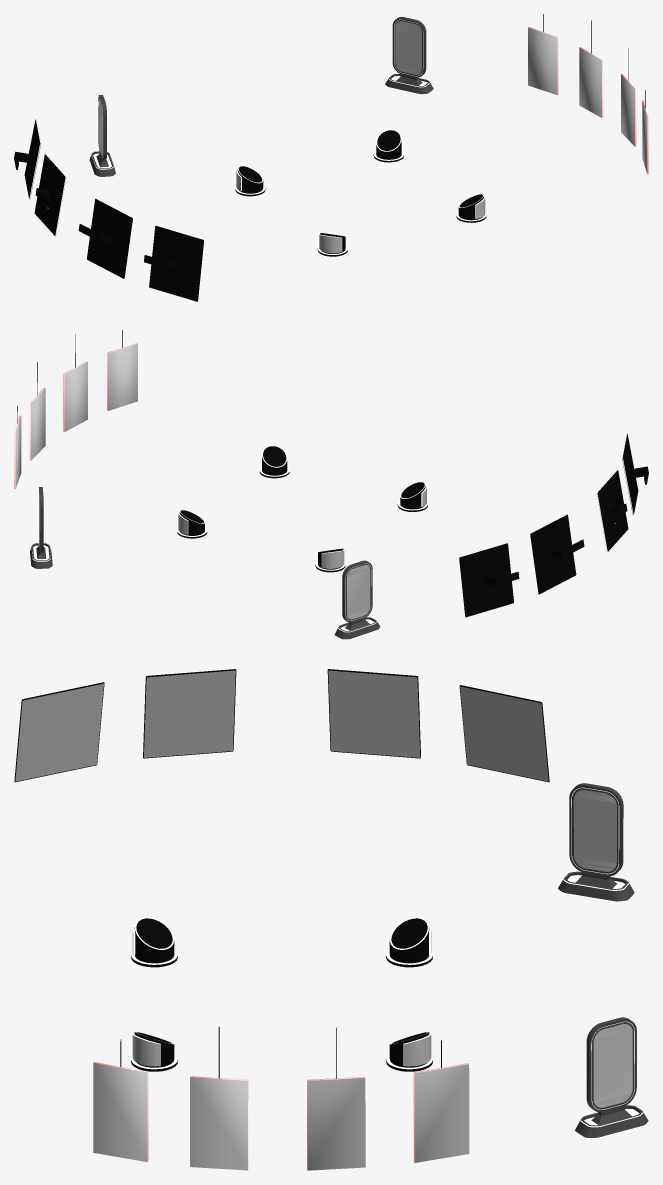
File: Banner_moon.fbx
3 views of the same model, one above another, from view 1: azimuth 30°, elevation 25°; view 2: azimuth 150°, elevation 25°; view 3: azimuth 270°, elevation 25° (orthographic). The views are drawn at different scales.
Visible parts, largest first — view 1: First_Floor_001.002, Cars_Screen_007, Cylinder_001_1, Cars_Screen_008, SM_TRAFFIC_LAMP_003, Cars_Screen_006, SM_TRAFFIC_LAMP_001, Cars_Screen_002; view 2: First_Floor_001.002, Cars_Screen_002, Cylinder_001_1, Cars_Screen_006, SM_TRAFFIC_LAMP_001, Cars_Screen_008, Cars_Screen_007, SM_TRAFFIC_LAMP_003; view 3: First_Floor_001.002, Cars_Screen_008, Cars_Screen_006, Cars_Screen_007, Cylinder_001_1, Cars_Screen_002, SM_TRAFFIC_LAMP_001, SM_TRAFFIC_LAMP_003.
Boxes of the visible parts, x1,y1,x2,y2 form: First_Floor_001.002: (528, 14, 648, 174); Cars_Screen_007: (144, 225, 204, 301); Cylinder_001_1: (235, 129, 486, 256); Cars_Screen_008: (78, 198, 133, 278); SM_TRAFFIC_LAMP_003: (385, 17, 433, 94); Cars_Screen_006: (34, 154, 65, 236); SM_TRAFFIC_LAMP_001: (89, 95, 115, 177); Cars_Screen_002: (14, 119, 40, 199); First_Floor_001.002: (14, 330, 137, 489); Cars_Screen_002: (459, 543, 519, 617); Cylinder_001_1: (177, 445, 427, 572); Cars_Screen_006: (530, 514, 584, 594); SM_TRAFFIC_LAMP_001: (334, 560, 380, 639); Cars_Screen_008: (597, 470, 628, 551); Cars_Screen_007: (622, 433, 648, 515); SM_TRAFFIC_LAMP_003: (30, 487, 52, 569); First_Floor_001.002: (93, 1026, 469, 1170); Cars_Screen_008: (142, 668, 236, 758); Cars_Screen_006: (327, 668, 421, 758); Cars_Screen_007: (14, 681, 104, 782); Cylinder_001_1: (131, 917, 432, 1071); Cars_Screen_002: (459, 684, 549, 782); SM_TRAFFIC_LAMP_001: (557, 783, 634, 902); SM_TRAFFIC_LAMP_003: (574, 1017, 648, 1138).
Size of the model in its own units: 5447 by 1042 by 3531.
